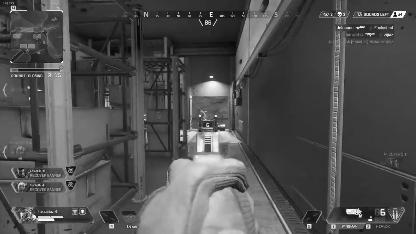Target: (198, 106, 208, 119)
